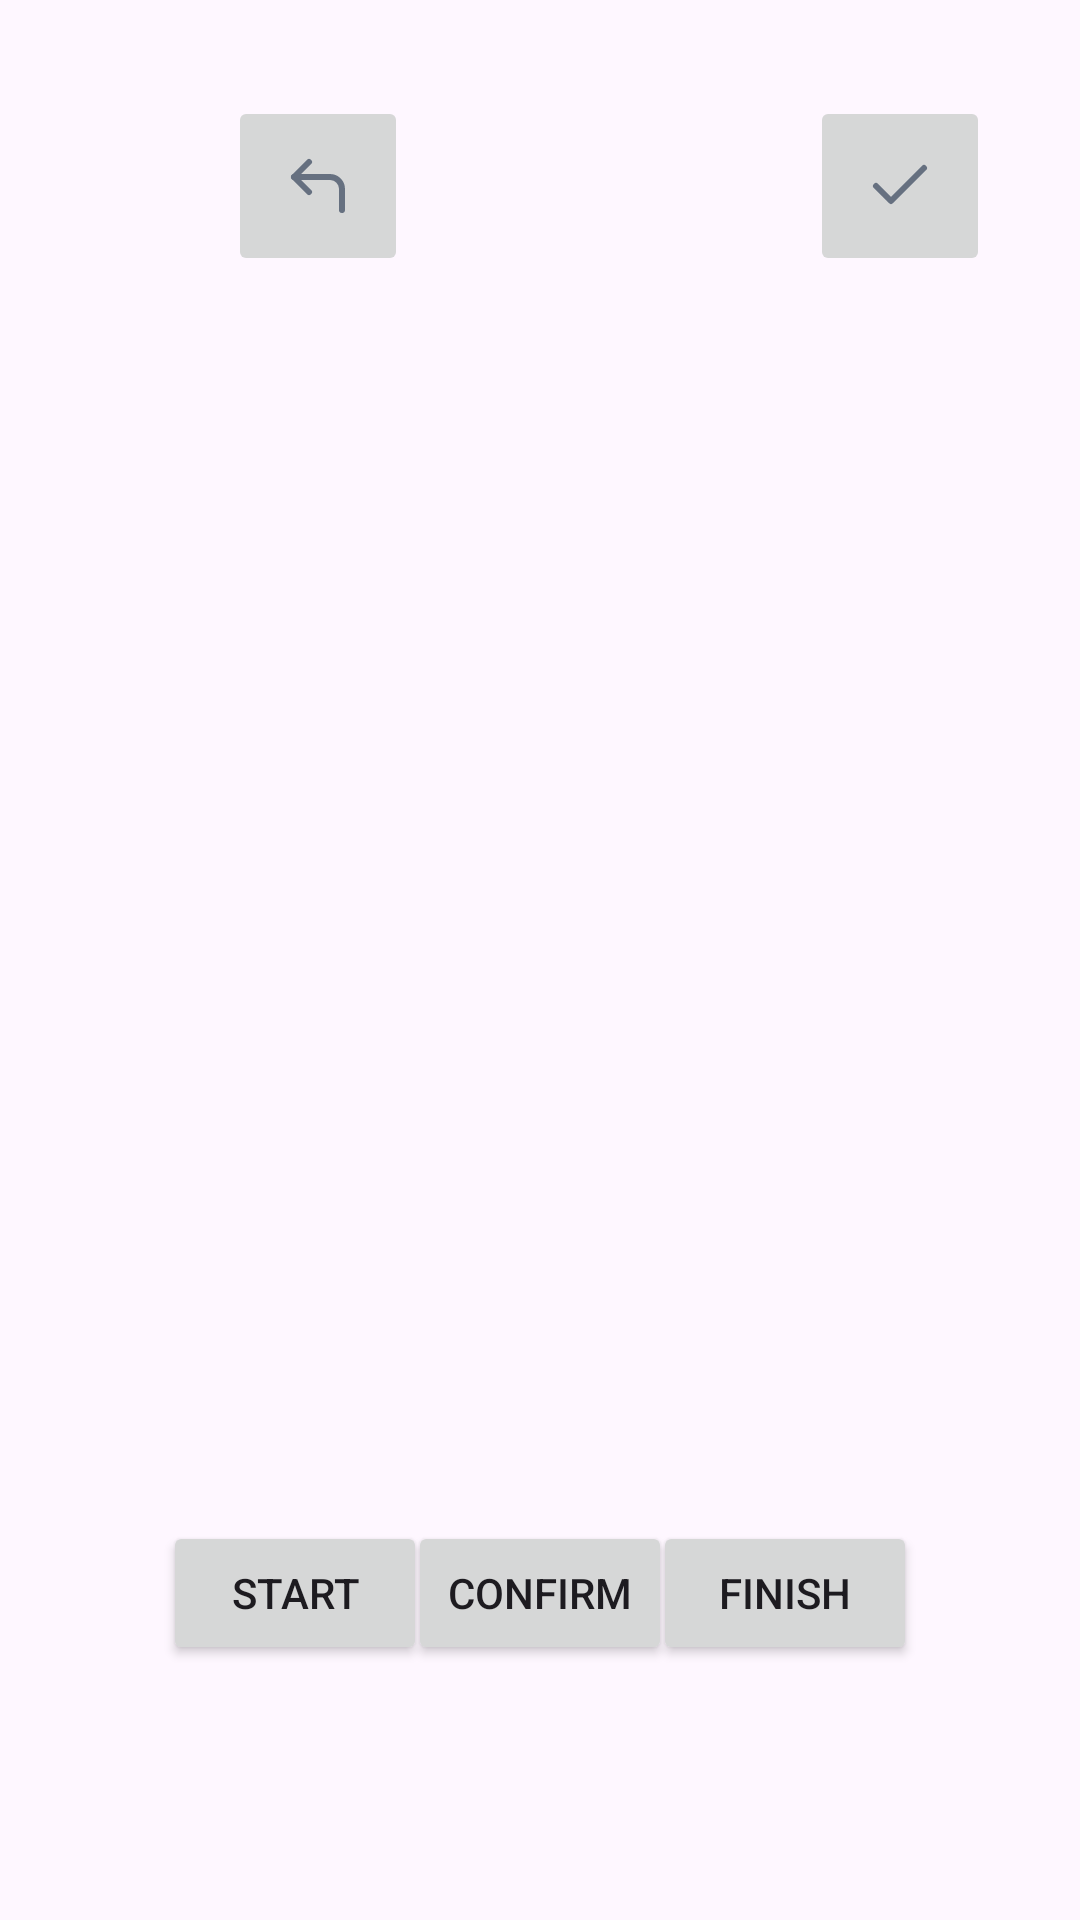

Screen size 1080 × 1920. Icon name, then its center in pixels as (x=x, y=y):
check: (x=900, y=186)
corner up left: (x=318, y=186)
